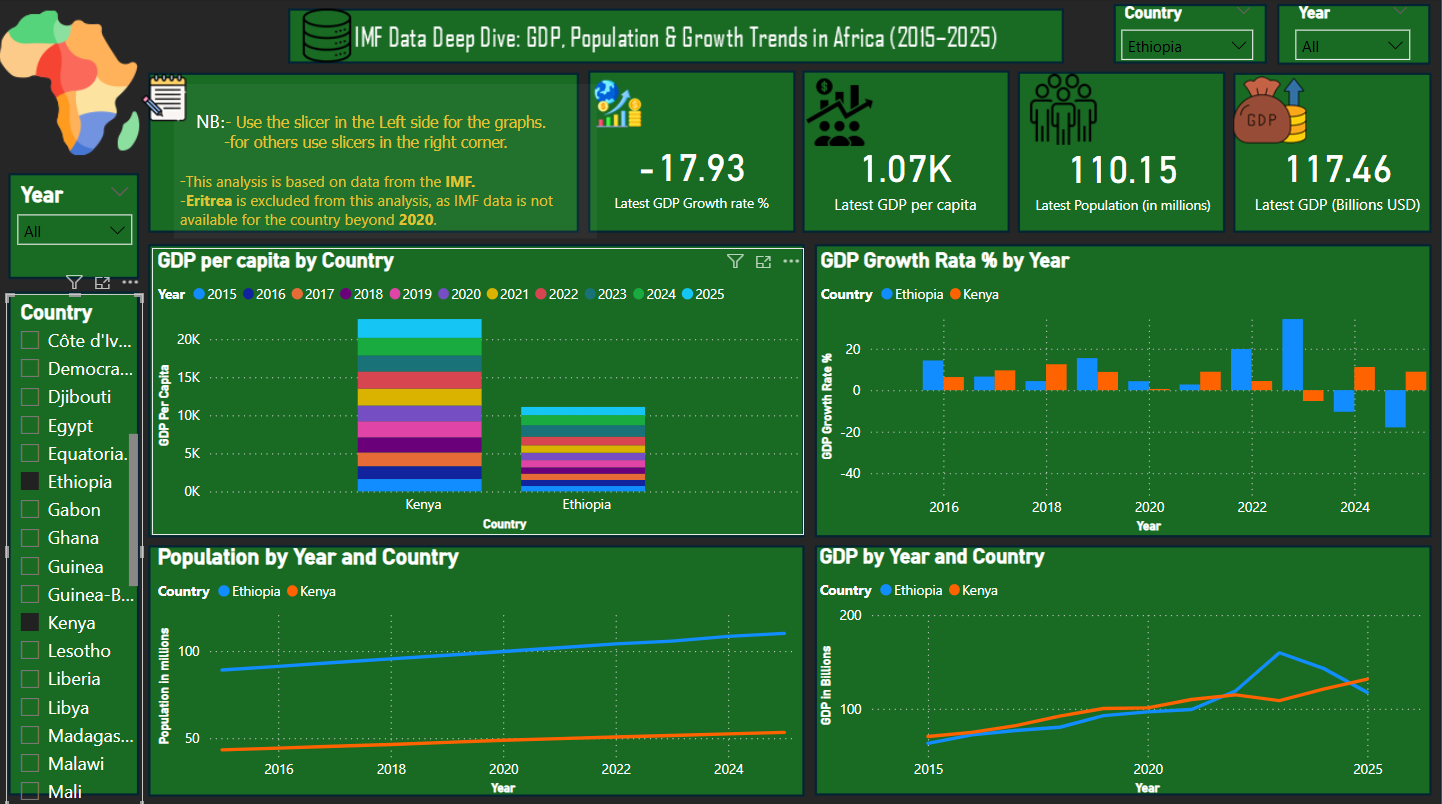

The page's visual inventory and layout, read from the dashboard file:
{"tool":"powerbi","page":{"name":"Page 1","canvas":[1280,720],"ordinal":0},"visuals":[{"type":"card","fields":{"Values":["GDP & Pop_n.Latest GDP per capita"]},"box":[714.9,88.5,179.9,137.1],"z":0},{"type":"card","fields":{"Values":["GDP & Pop_n.Latest GDP Growth rate %"]},"box":[524.3,88.5,181.9,133.3],"z":1000},{"type":"card","fields":{"Values":["GDP & Pop_n.Latest Population (in millions)"]},"box":[907.5,88.5,180.9,137.1],"z":2000},{"type":"card","fields":{"Values":["GDP & Pop_n.Latest GDP (Billions USD)"]},"box":[1096.2,88.5,183.8,137.1],"z":3000},{"type":"slicer","fields":{"Values":["GDP & Pop_n.Country"]},"box":[6.8,262.6,121.6,457.1],"z":4000},{"type":"slicer","fields":{"Values":["GDP & Pop_n.Year"]},"box":[6.8,157.6,121.6,89.5],"z":5000},{"type":"lineChart","title":"Population by Year and Country","fields":{"Y":["Sum(GDP & Pop_n.Pop_n in millions)"],"Category":["GDP & Pop_n.Year"],"Series":["GDP & Pop_n.Country"]},"box":[136.2,484.4,578.7,226.6],"z":6000},{"type":"lineChart","title":" GDP  by Year and Country","fields":{"Y":["Sum(GDP & Pop_n.GDP in Billions)"],"Category":["GDP & Pop_n.Year"],"Series":["GDP & Pop_n.Country"]},"box":[723.6,484.4,547.6,226.6],"z":7000},{"type":"clusteredColumnChart","title":" GDP Growth Rata % by Year ","fields":{"Y":["Sum(GDP & Pop_n.GDP Growth Rata %)"],"Category":["GDP & Pop_n.Year"],"Series":["GDP & Pop_n.Country"]},"box":[724,221.8,547,257],"z":8000},{"type":"columnChart","title":" GDP per capita by Country","fields":{"Category":["GDP & Pop_n.Country"],"Y":["Sum(GDP & Pop_n.GDP per capita)"],"Series":["GDP & Pop_n.Year"]},"box":[136.2,221.8,578.7,254.8],"z":9000},{"type":"textbox","box":[155.6,75.9,375.4,137.1],"z":10000},{"type":"slicer","fields":{"Values":["GDP & Pop_n.Country"]},"box":[986.3,0,137.1,60.3],"z":11000},{"type":"slicer","fields":{"Values":["GDP & Pop_n.Year"]},"box":[1139.9,0,121.6,60.3],"z":12000}]}

Visuals, with their boxes on the page's 1280x720 design canvas (x1, y1, x2, y2). These are canvas units, not pixel positions in the 1442x804 screenshot, which may show the page scaled, cropped or inside an application window:
card - GDP & Pop_n.Latest GDP per capita: box=[715, 88, 895, 226]
card - GDP & Pop_n.Latest GDP Growth rate %: box=[524, 88, 706, 222]
card - GDP & Pop_n.Latest Population (in millions): box=[908, 88, 1088, 226]
card - GDP & Pop_n.Latest GDP (Billions USD): box=[1096, 88, 1280, 226]
slicer - GDP & Pop_n.Country: box=[7, 263, 128, 720]
slicer - GDP & Pop_n.Year: box=[7, 158, 128, 247]
"Population by Year and Country" lineChart: box=[136, 484, 715, 711]
" GDP  by Year and Country" lineChart: box=[724, 484, 1271, 711]
" GDP Growth Rata % by Year " clusteredColumnChart: box=[724, 222, 1271, 479]
" GDP per capita by Country" columnChart: box=[136, 222, 715, 477]
textbox: box=[156, 76, 531, 213]
slicer - GDP & Pop_n.Country: box=[986, 0, 1123, 60]
slicer - GDP & Pop_n.Year: box=[1140, 0, 1262, 60]
